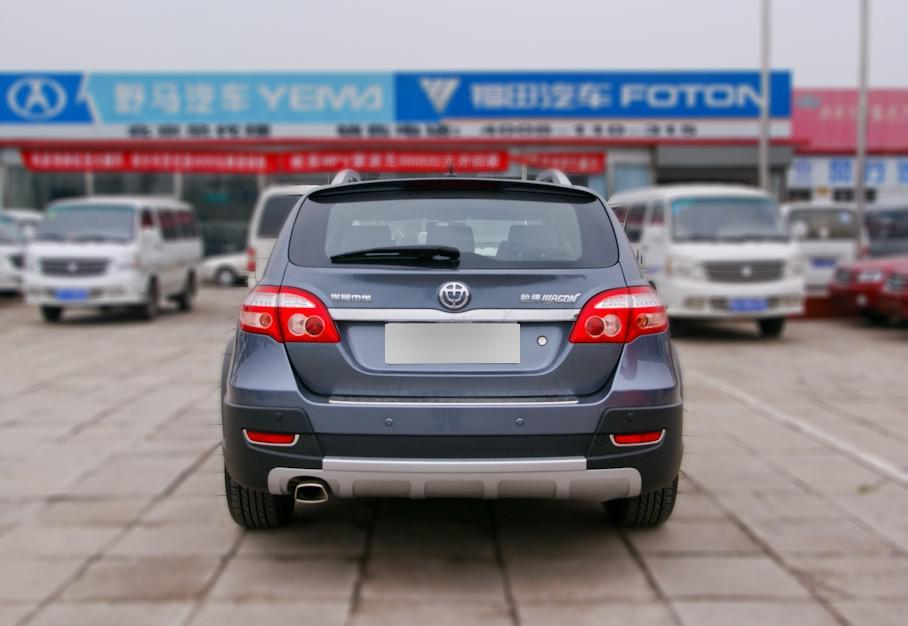Wagon: (220, 166, 684, 530)
